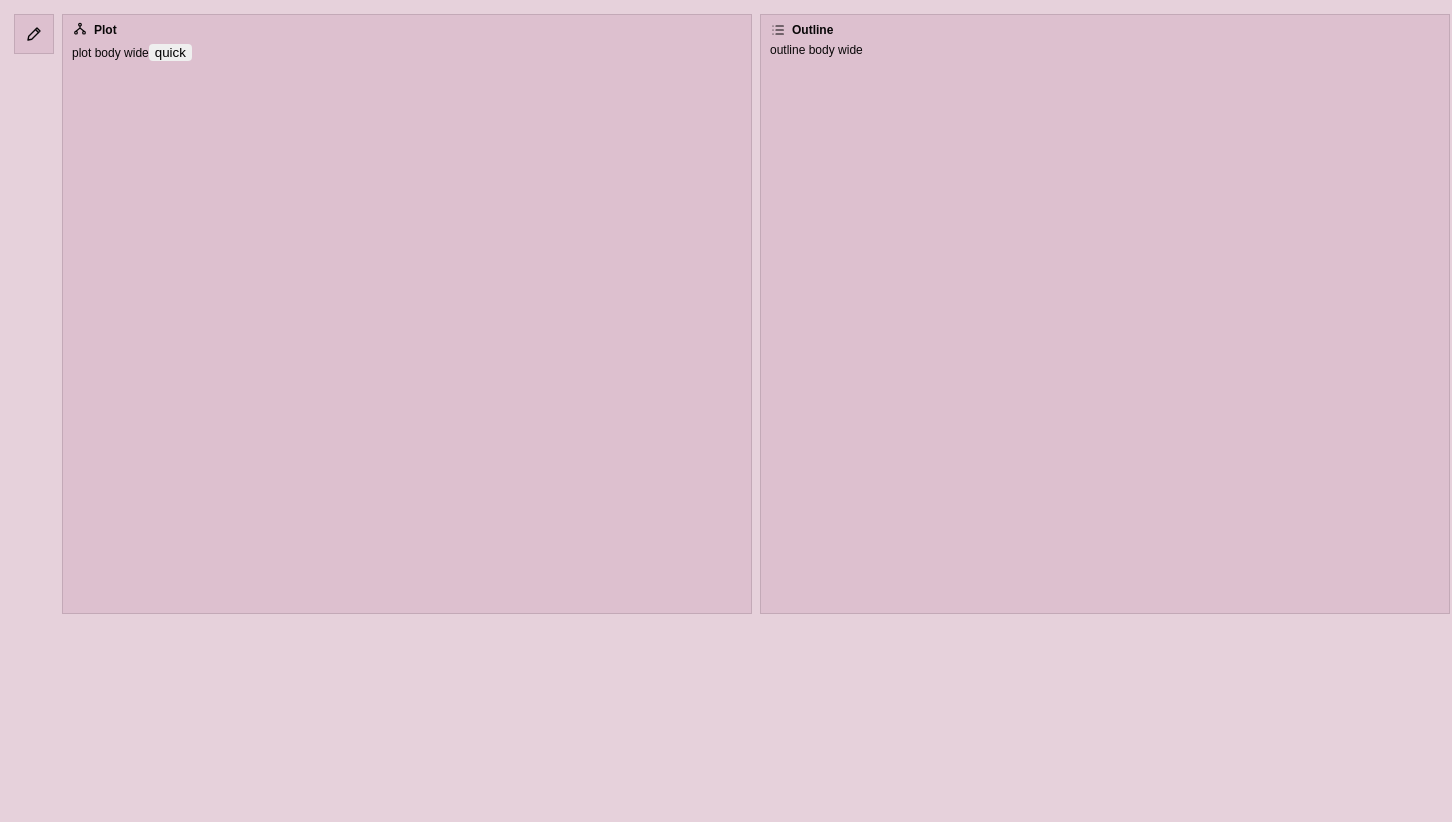
Test case: TileGrid › has Settings and Help at the console corner
The width and height of the screenshot is (1452, 822).
Click the button with aria-label "Open Plot" at (105,30), box [94,24,117,36]
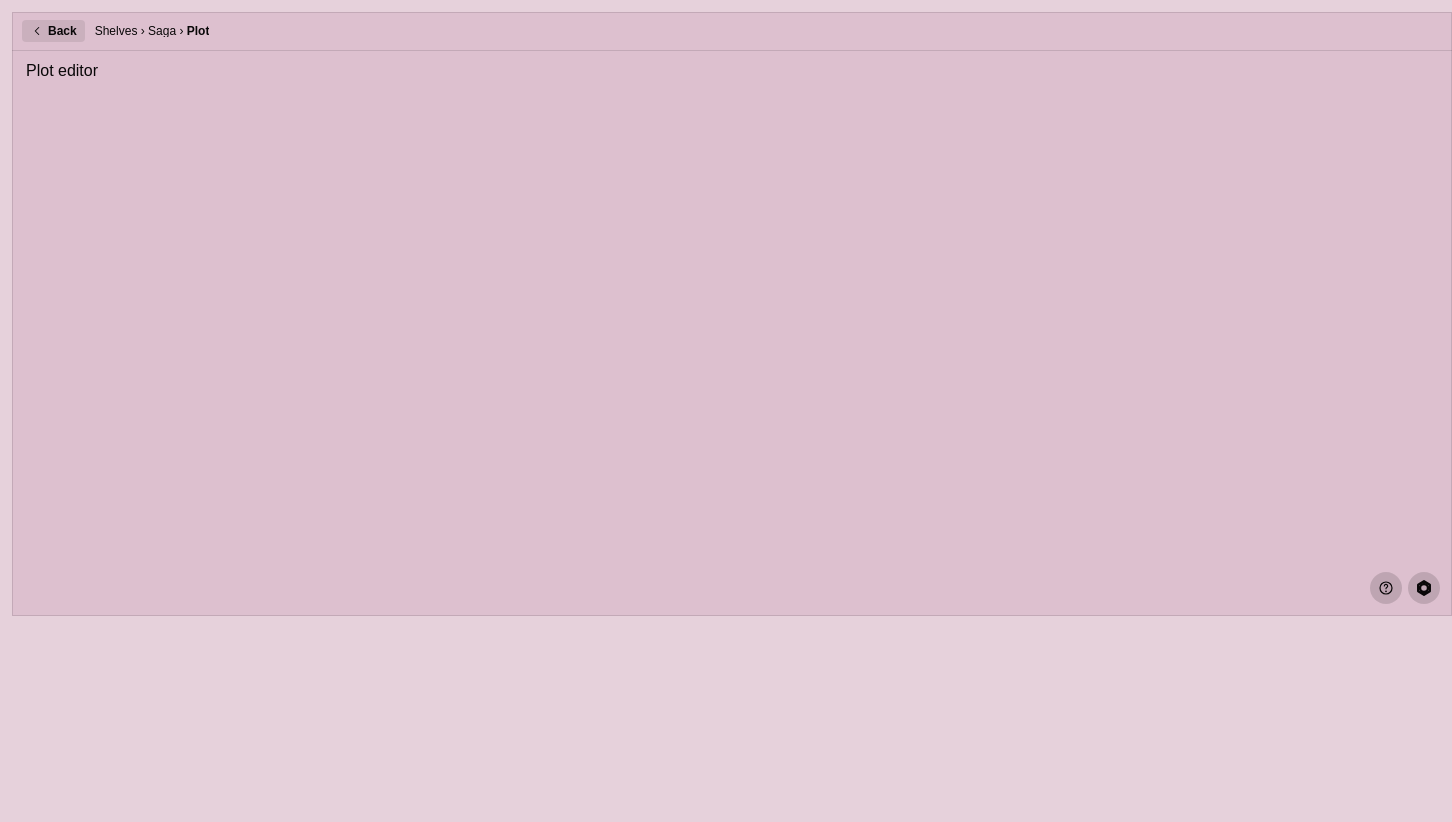
Click the button named "Help" at (1386,588), box [1370,572,1402,604]
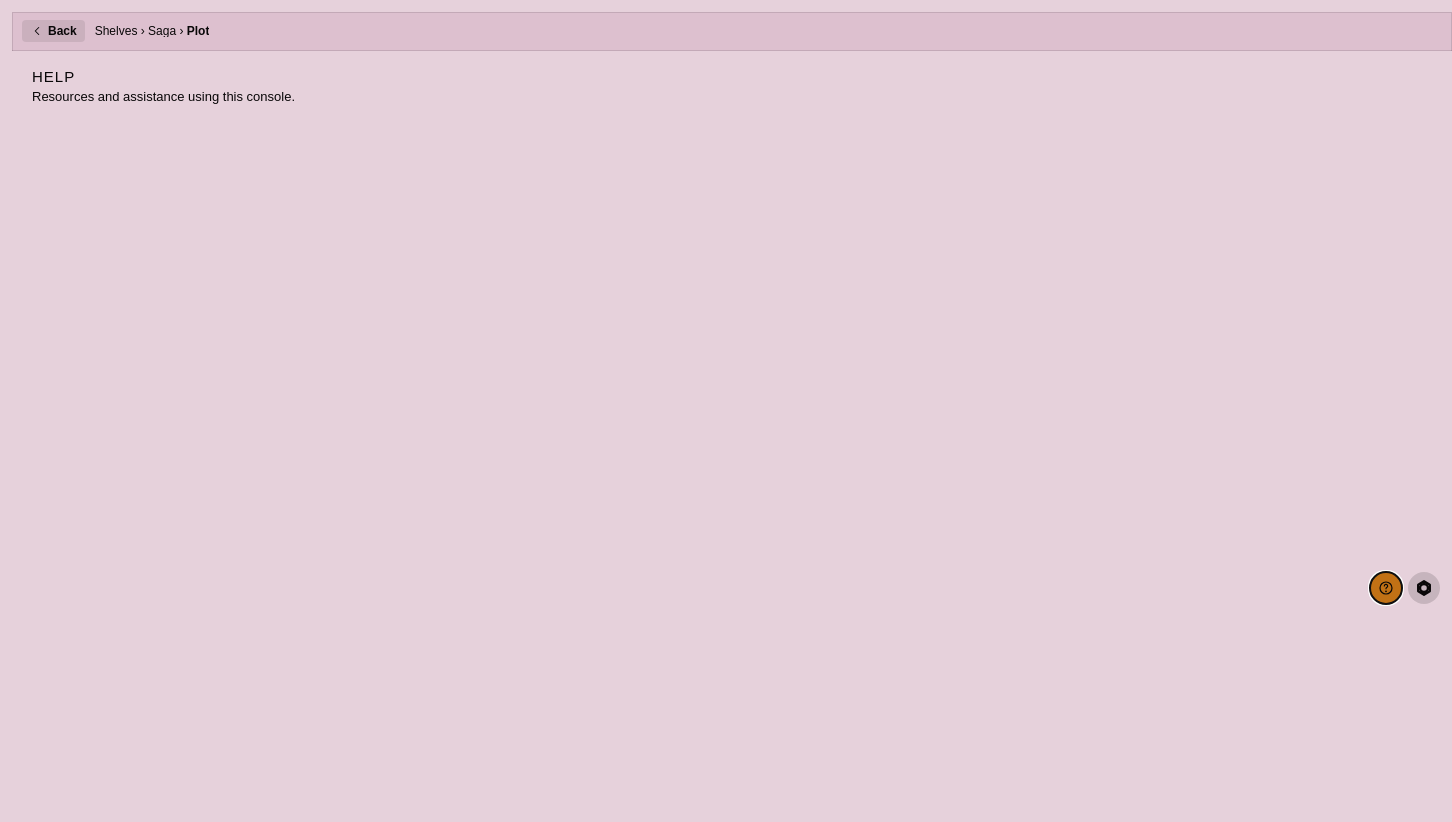
Expected: the element "Help" shows "Resources and assistance", [32,89,295,104]
Click the button named "Settings" at (1424,588), box [1408,572,1440,604]
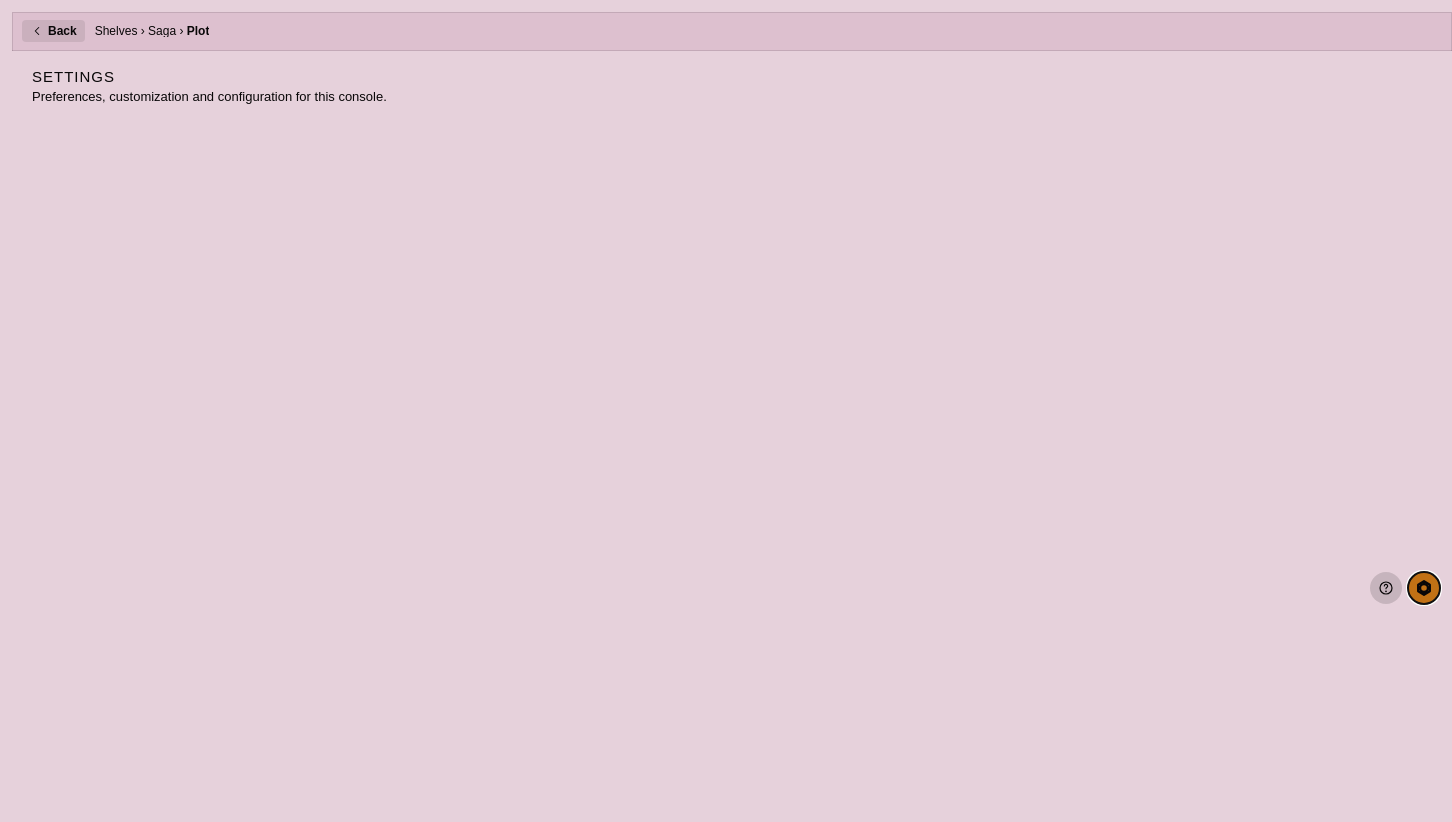
Expected: the element "Settings" shows "Preferences", [32,89,387,104]
Expected: the heading "Help" is gone
Click the button named "Settings" at (1424,588), box [1408,572,1440,604]
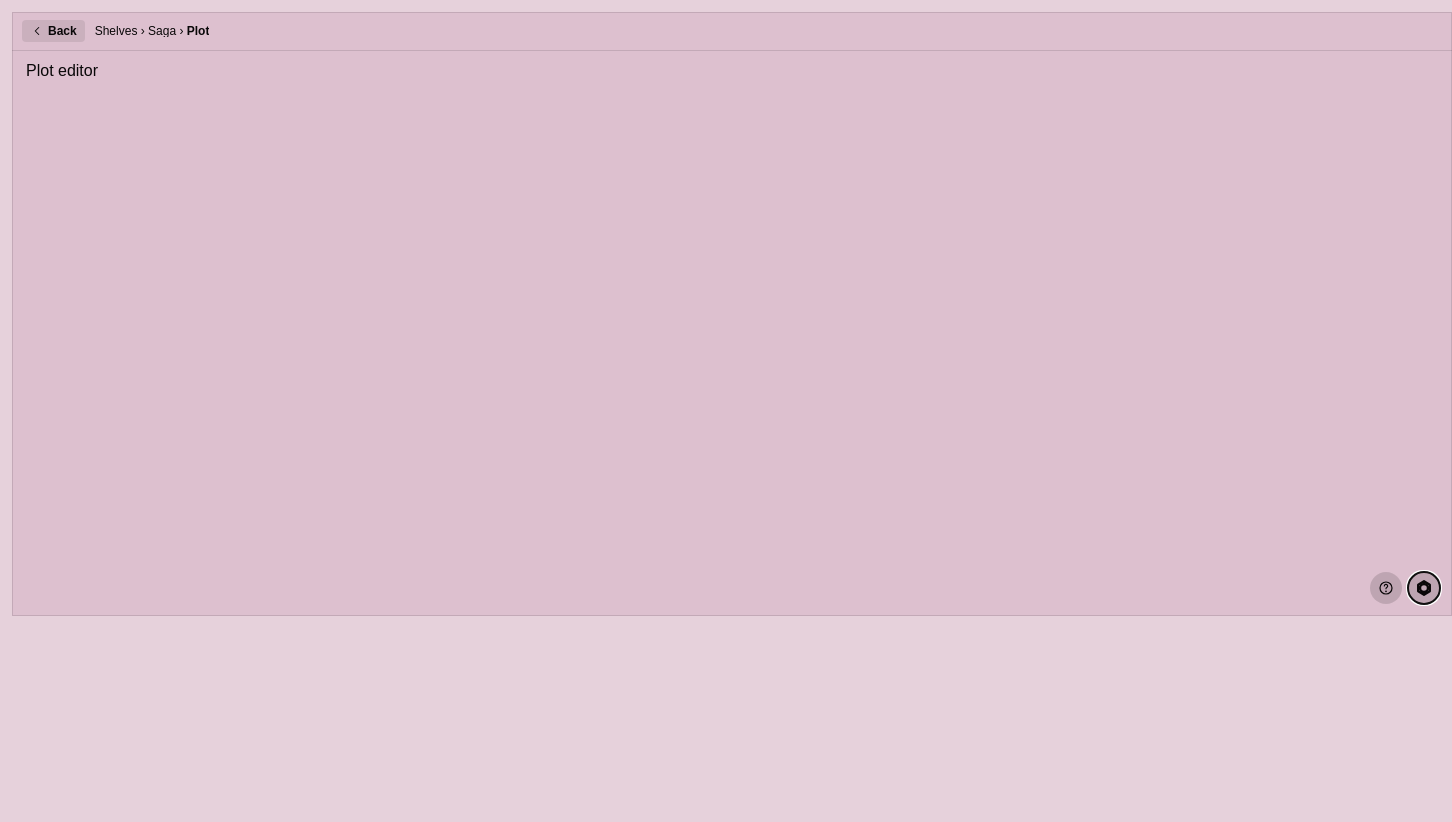
Expected: the heading "Settings" is gone
